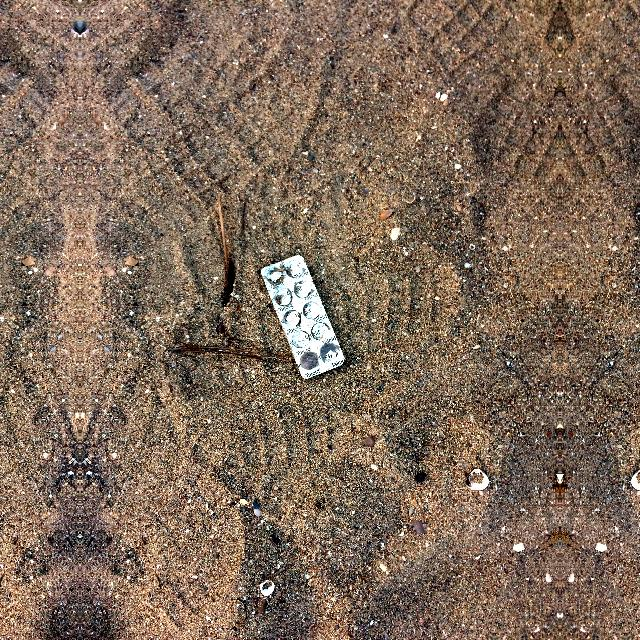Plastic: (258, 250, 348, 384)
